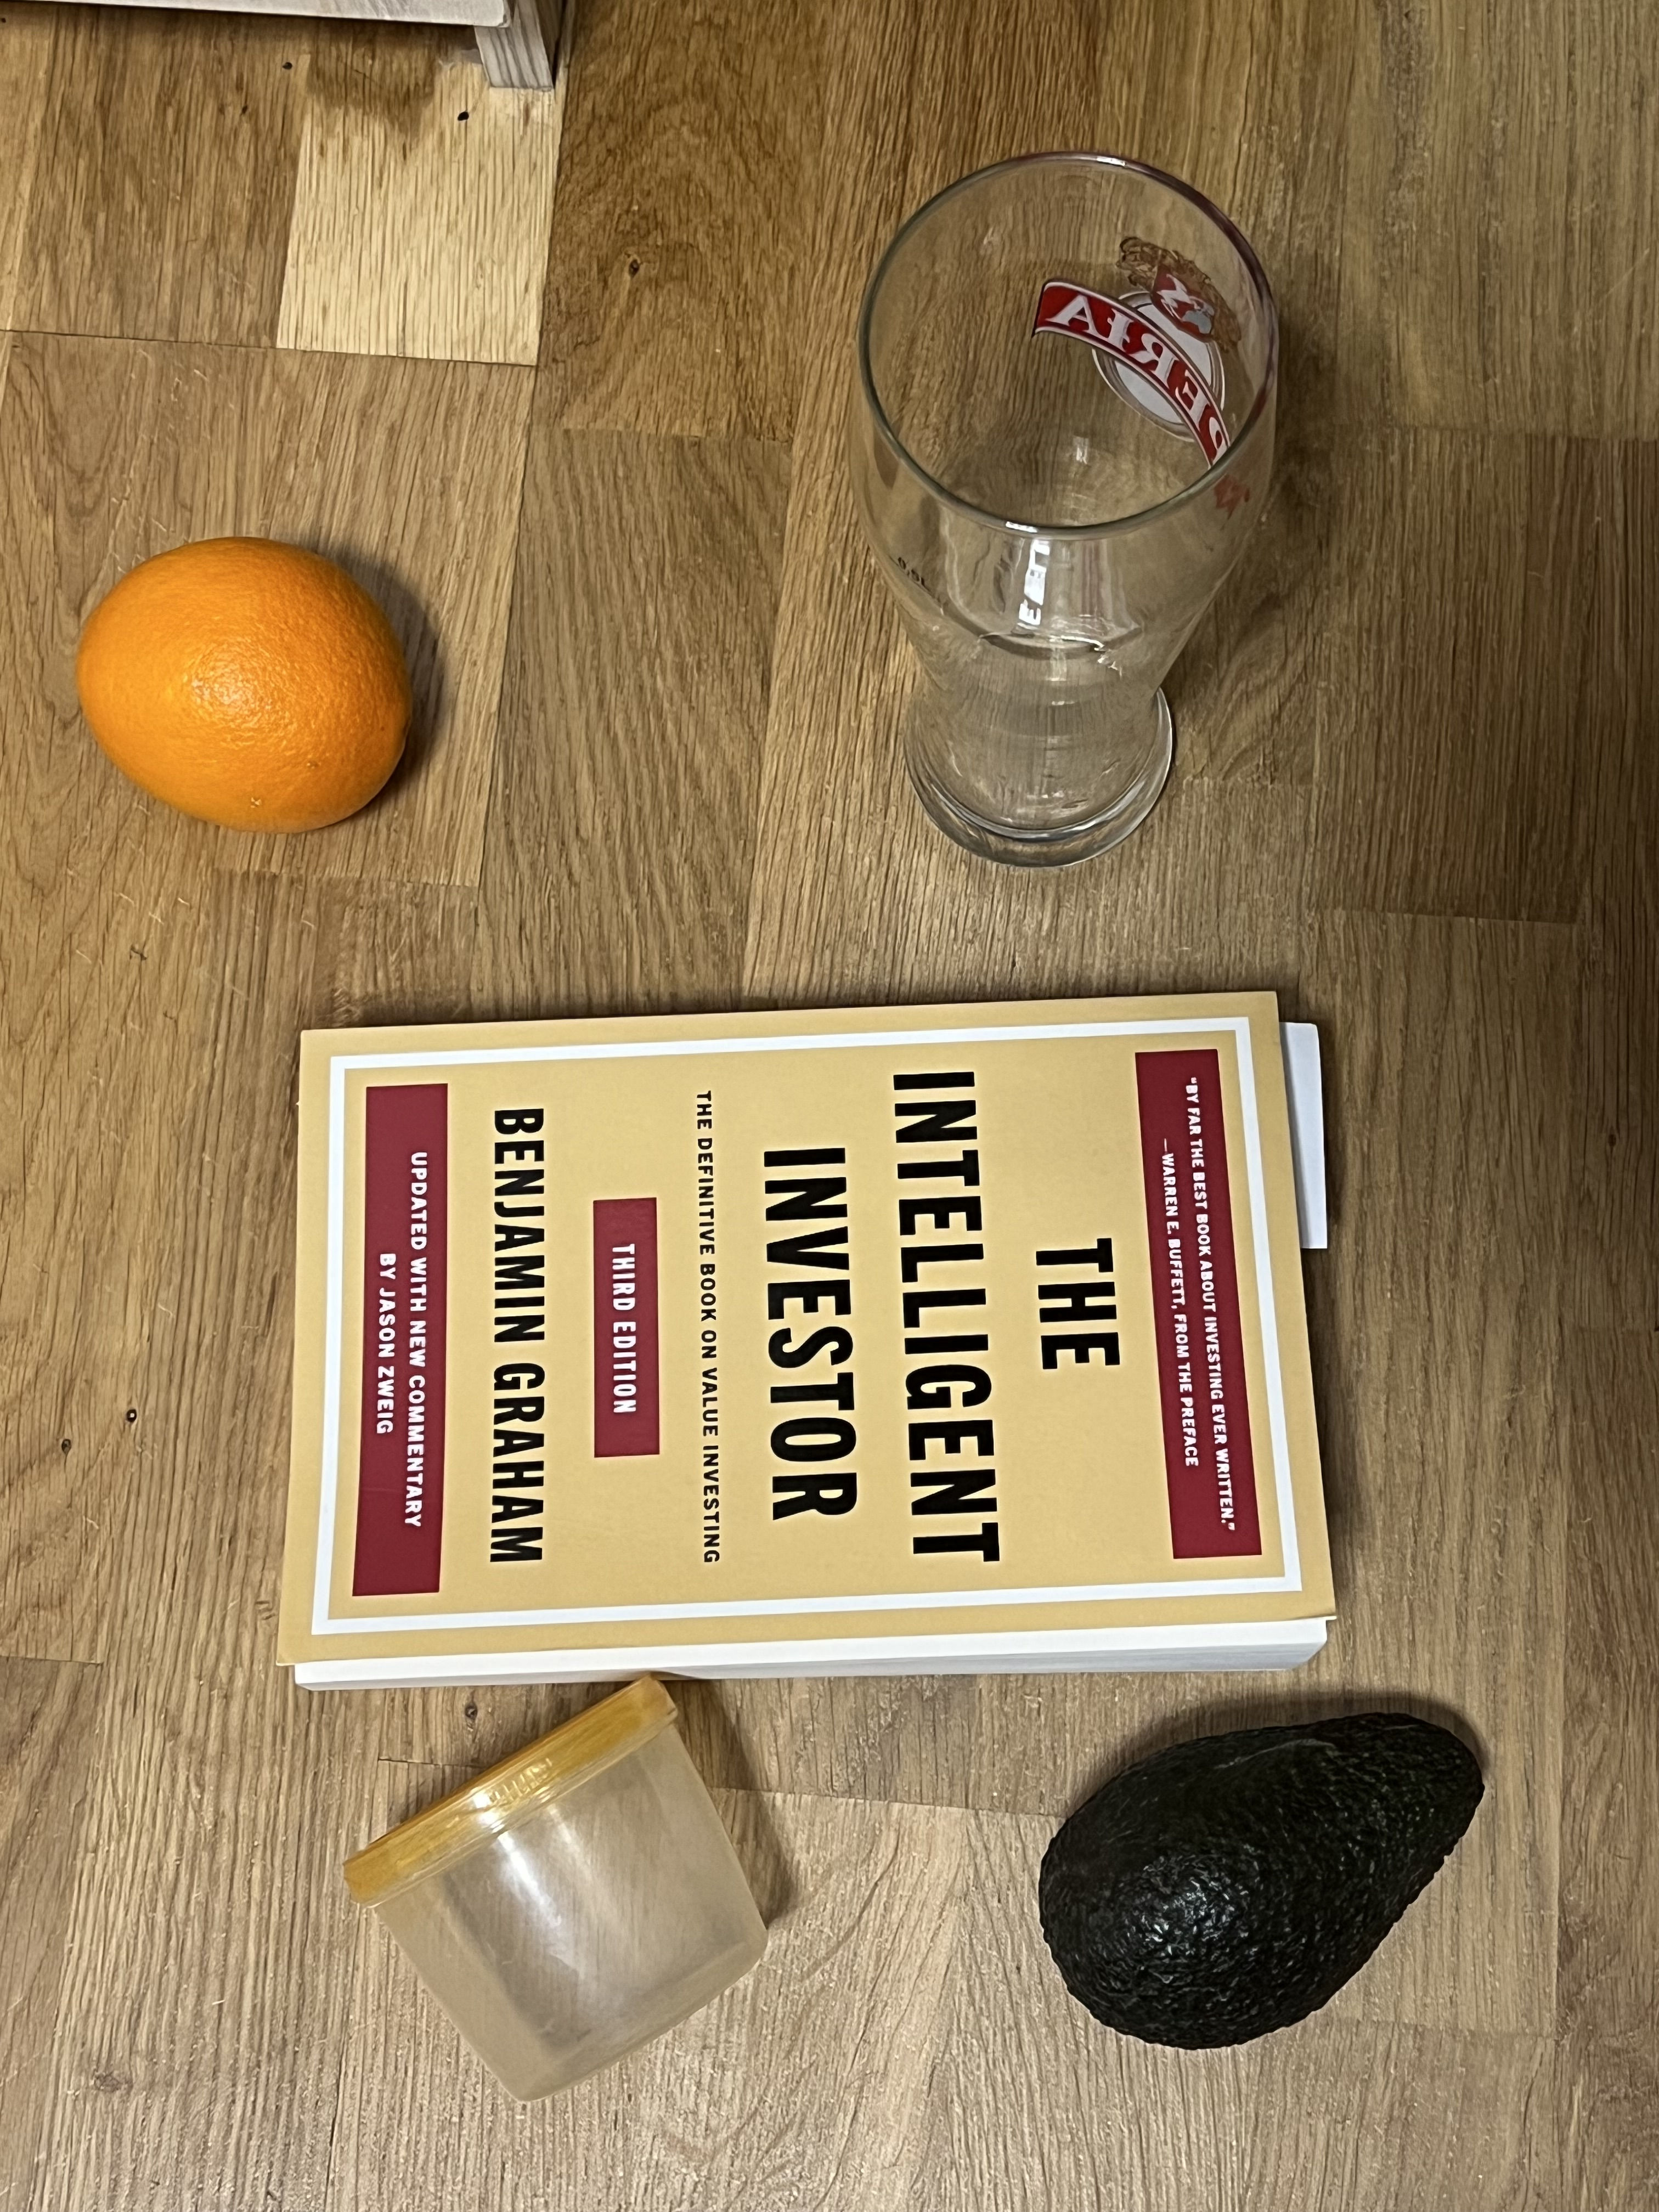BIODEGRADABLE: (849, 150, 1283, 883), (174, 469, 528, 756)
GLASS: (263, 996, 1358, 1698)
PAPER: (310, 1860, 702, 2212)
PLASTIC: (978, 1848, 1457, 2179)
